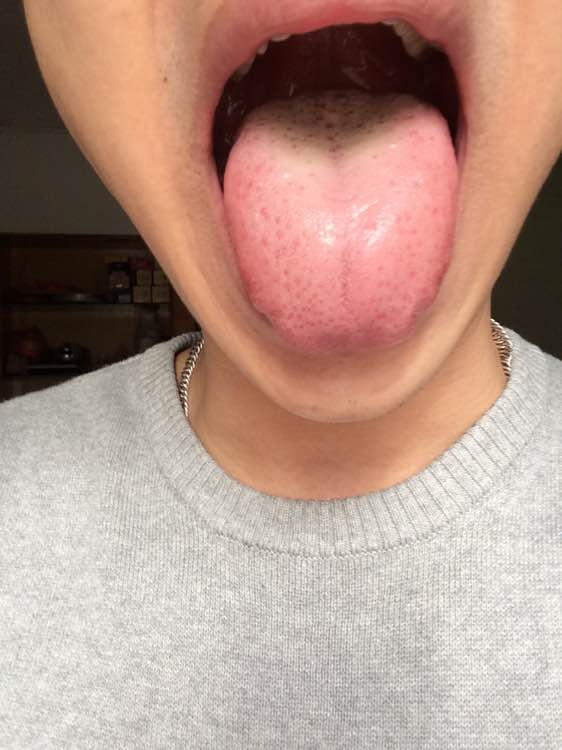hongdianshe: (257, 205, 268, 217)
hongshe: (222, 87, 457, 352)
huangtaishe: (222, 87, 457, 352)
